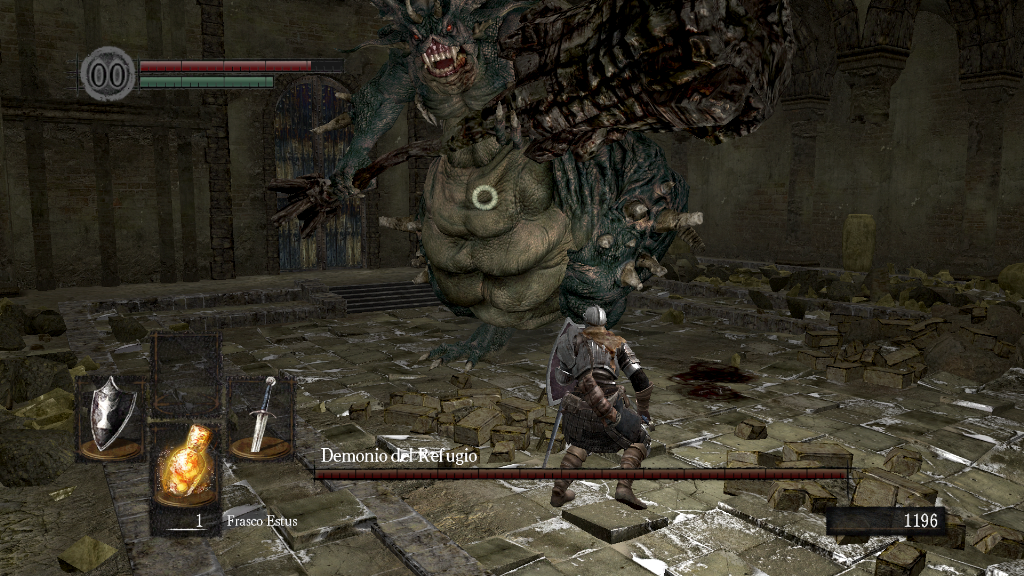asylumDemon: (266, 3, 802, 373)
bossHP: (314, 469, 847, 479)
health: (138, 58, 343, 71)
humanity: (80, 45, 136, 102)
player: (545, 304, 652, 511)
souls: (825, 506, 945, 536)
stamina: (138, 74, 274, 88)
